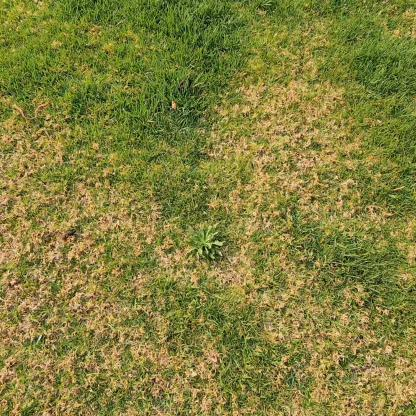Weeds: (183, 224, 224, 262)
